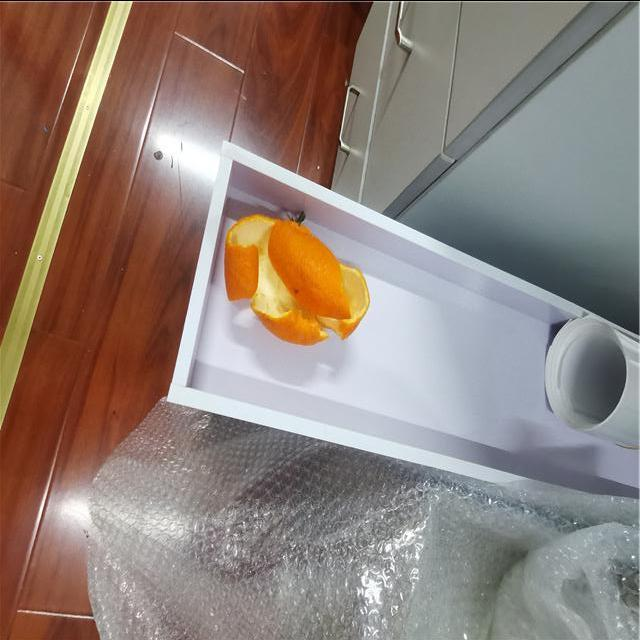orange peel: (225, 210, 372, 348)
